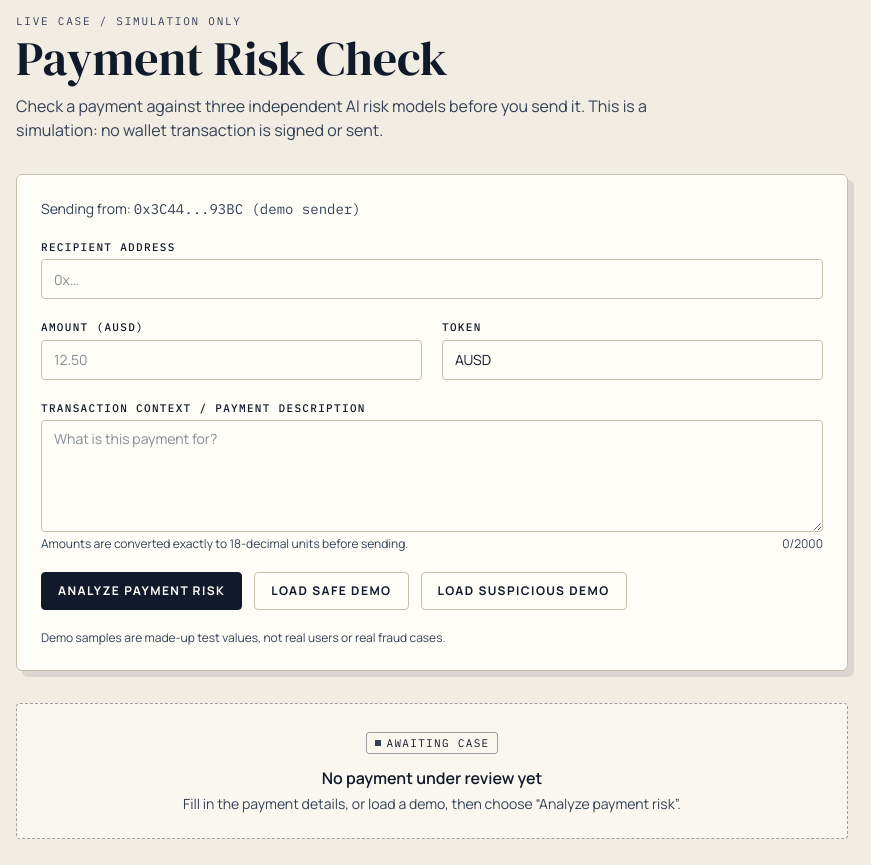
Payment Risk Check page › shows the loading message and three model skeletons while analysing
The image size is (871, 865).
Click the button "Load safe demo". click: click(331, 591)
box: left=254, top=572, right=409, bottom=610
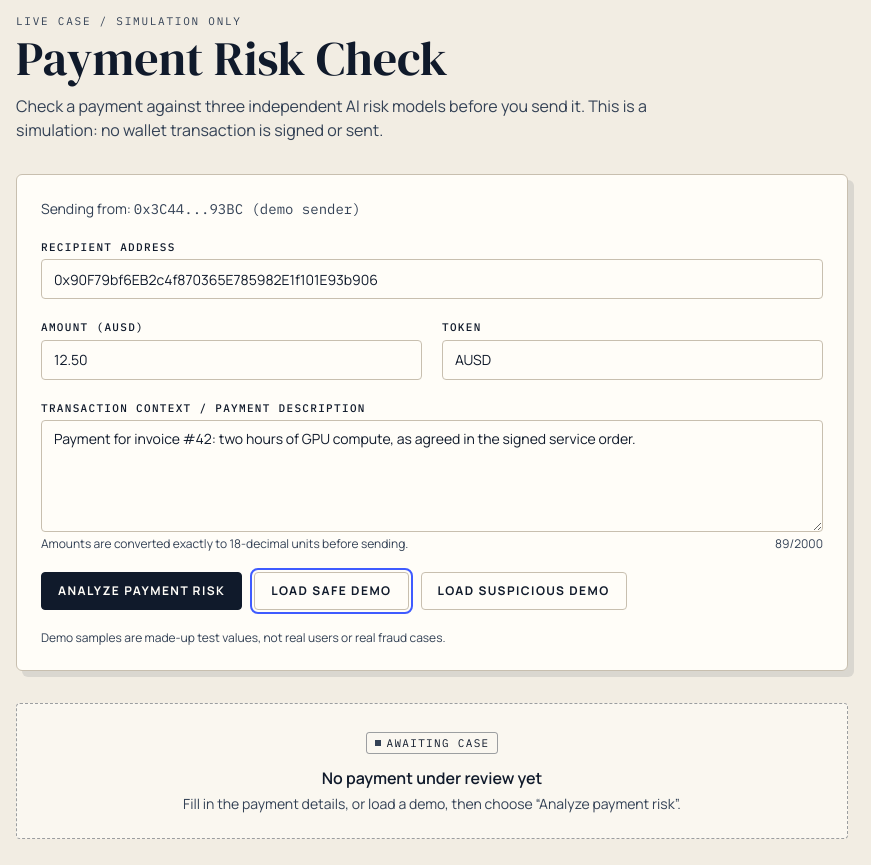
Click the button "Analyze payment risk". click: click(142, 591)
box: left=41, top=572, right=242, bottom=610
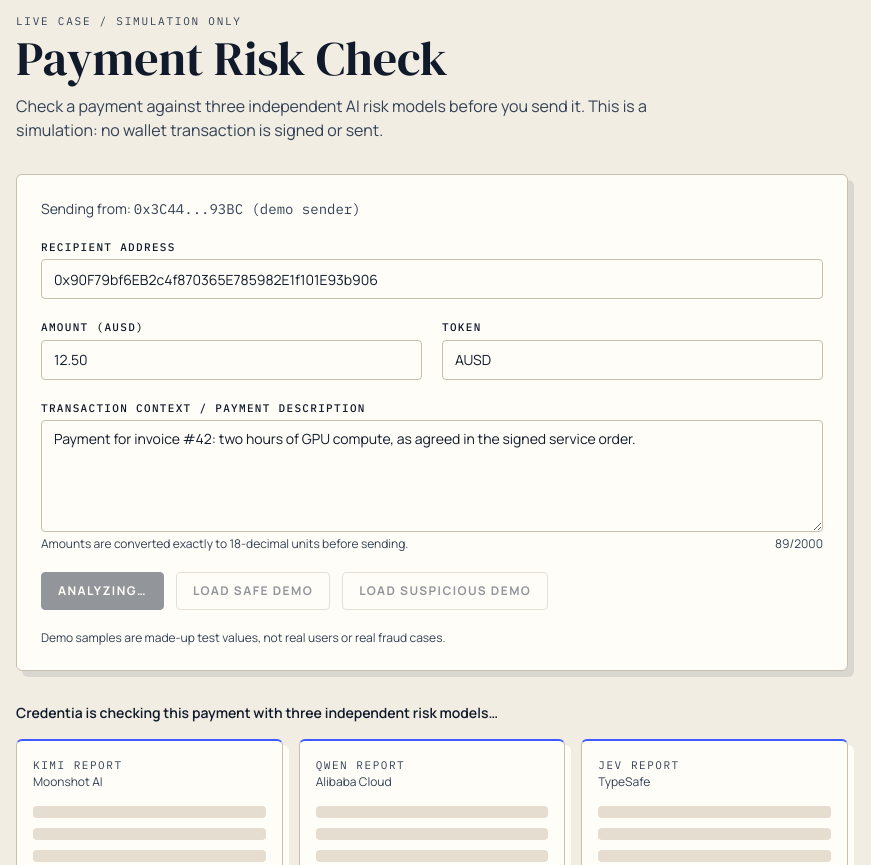
Now the text "Credentia is checking this payment with three independent risk models…" is shown, box left=16, top=703, right=498, bottom=722
Now the button "Analyzing…" is disabled, box left=41, top=572, right=164, bottom=610
